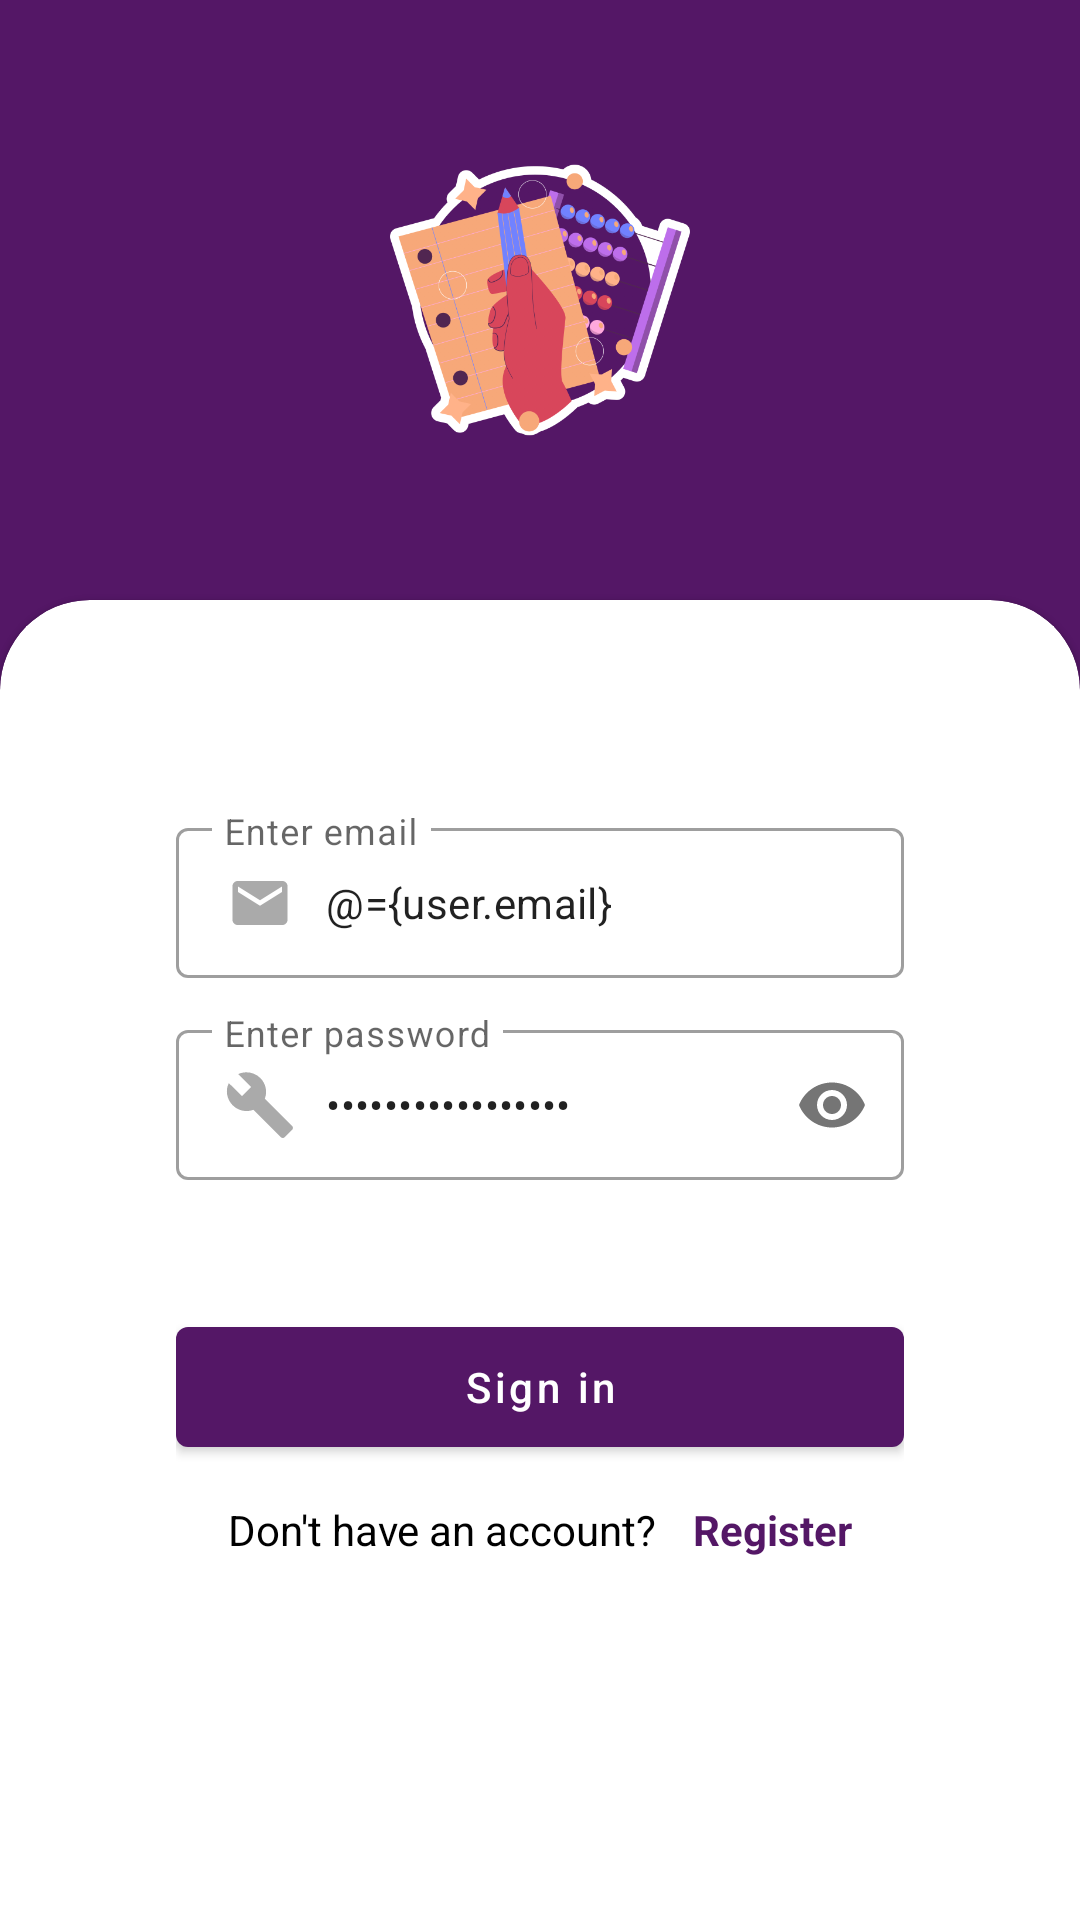

Where icons sit on this 1080*1920 app screen, as [x1=x1, y1=y1, x2=x2, y2=y2]:
maths: [x1=390, y1=164, x2=690, y2=436]
